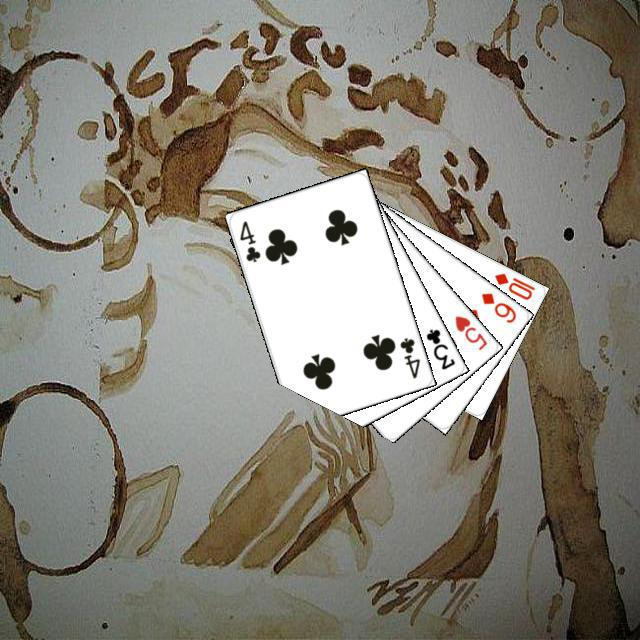10d: (489, 268, 537, 302)
3c: (421, 324, 457, 371)
4c: (395, 332, 422, 380), (235, 216, 262, 264)
5h: (450, 311, 489, 352)
6d: (476, 288, 518, 325)
